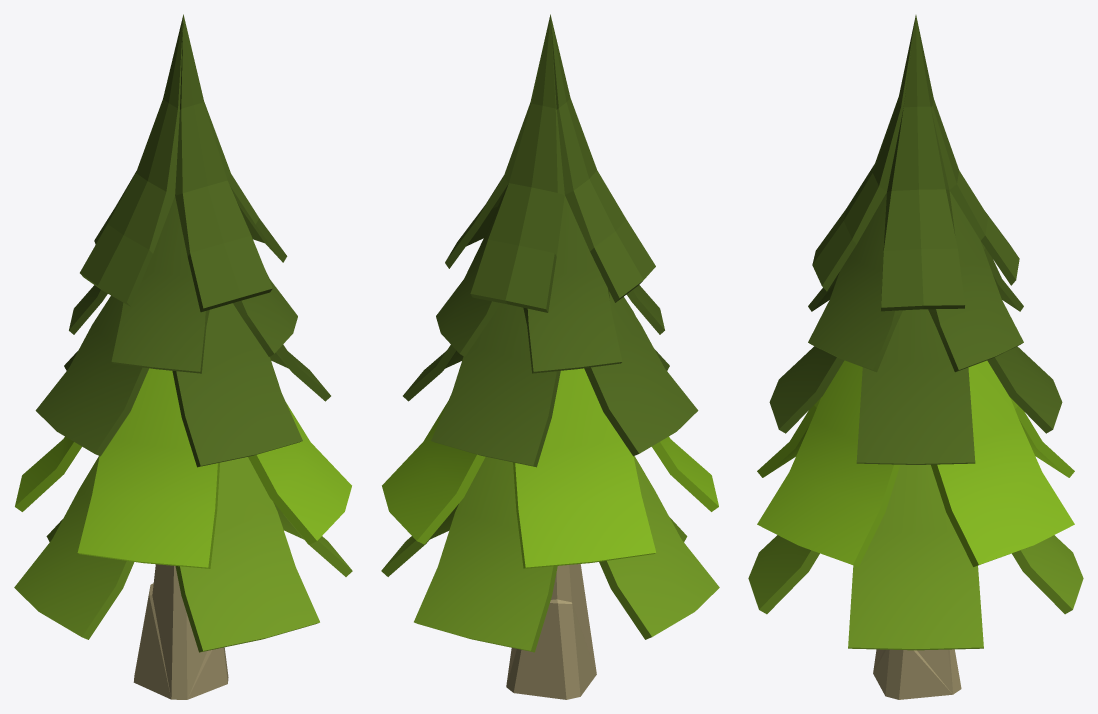
File: model_polytope_dock_tree02.fbx
3 views of the same model, side by side, from view 1: azimuth 30°, elevation 25°; view 2: azimuth 150°, elevation 25°; view 3: azimuth 270°, elevation 25° (orthographic).
Visible parts, largest first — view 1: model_polytope_tree02; view 2: model_polytope_tree02; view 3: model_polytope_tree02.
Boxes of the visible parts, left/top/right/bottom form: model_polytope_tree02: left=14, top=14, right=352, bottom=699; model_polytope_tree02: left=381, top=14, right=719, bottom=699; model_polytope_tree02: left=748, top=15, right=1083, bottom=699.
Size of the model in its own units: 202 by 445 by 202.
